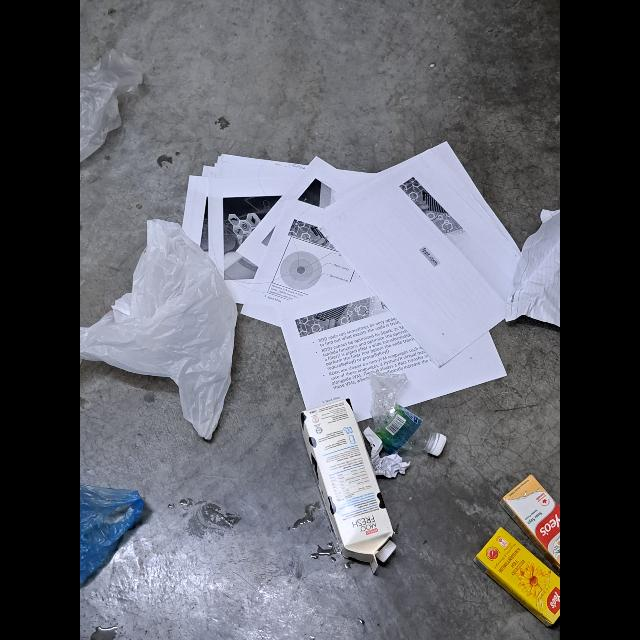caixinha: (300, 395, 398, 571), (476, 530, 560, 626), (502, 472, 560, 564)
garrafa plástica: (370, 368, 450, 460)
papel: (182, 140, 560, 420), (362, 424, 411, 478)
sacola plástica: (81, 222, 237, 442), (80, 41, 144, 171), (80, 484, 150, 590)
tampa plástica: (375, 538, 397, 564), (428, 430, 449, 454)
